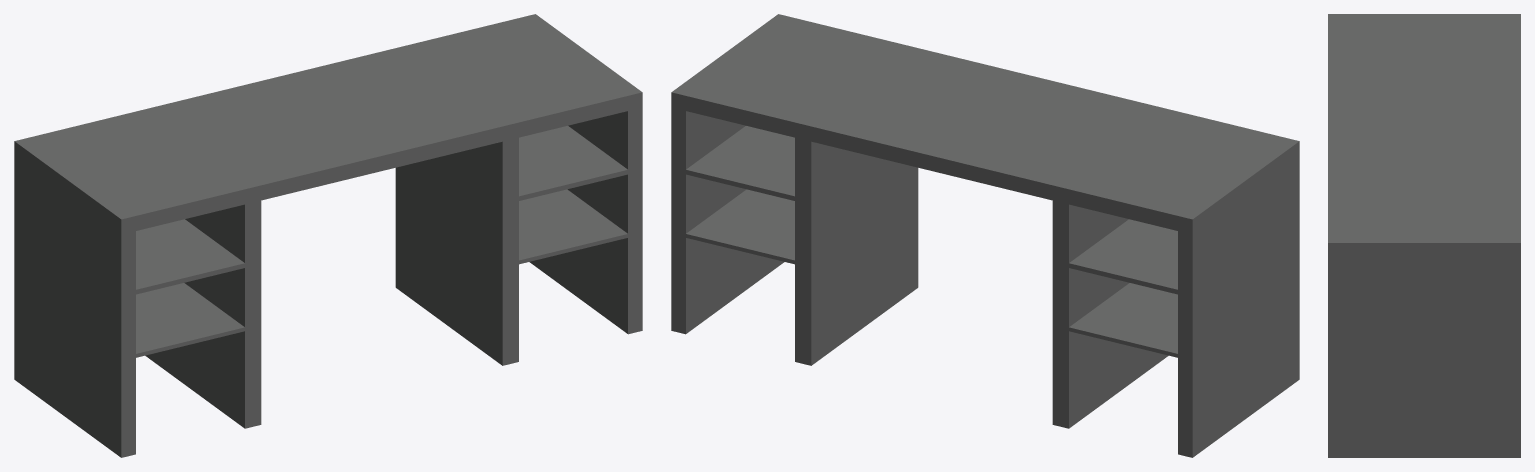
Rendered from Desk.obj.
3 renders of one model, left to right at view 1: azimuth 30°, elevation 25°; view 2: azimuth 150°, elevation 25°; view 3: azimuth 270°, elevation 25°, orthographic. The views are drawn at different scales.
Parts seen in each view (by area): view 1: Main_Cube.008; view 2: Main_Cube.008; view 3: Main_Cube.008.
Part boxes in pixels (bbox=[...]): Main_Cube.008: bbox=[14, 14, 642, 457]; Main_Cube.008: bbox=[671, 14, 1299, 457]; Main_Cube.008: bbox=[1328, 14, 1520, 457].
Size of the model in its own units: 2 by 0.8768 by 0.7102.
Materials: 1 (1 with a texture image).
